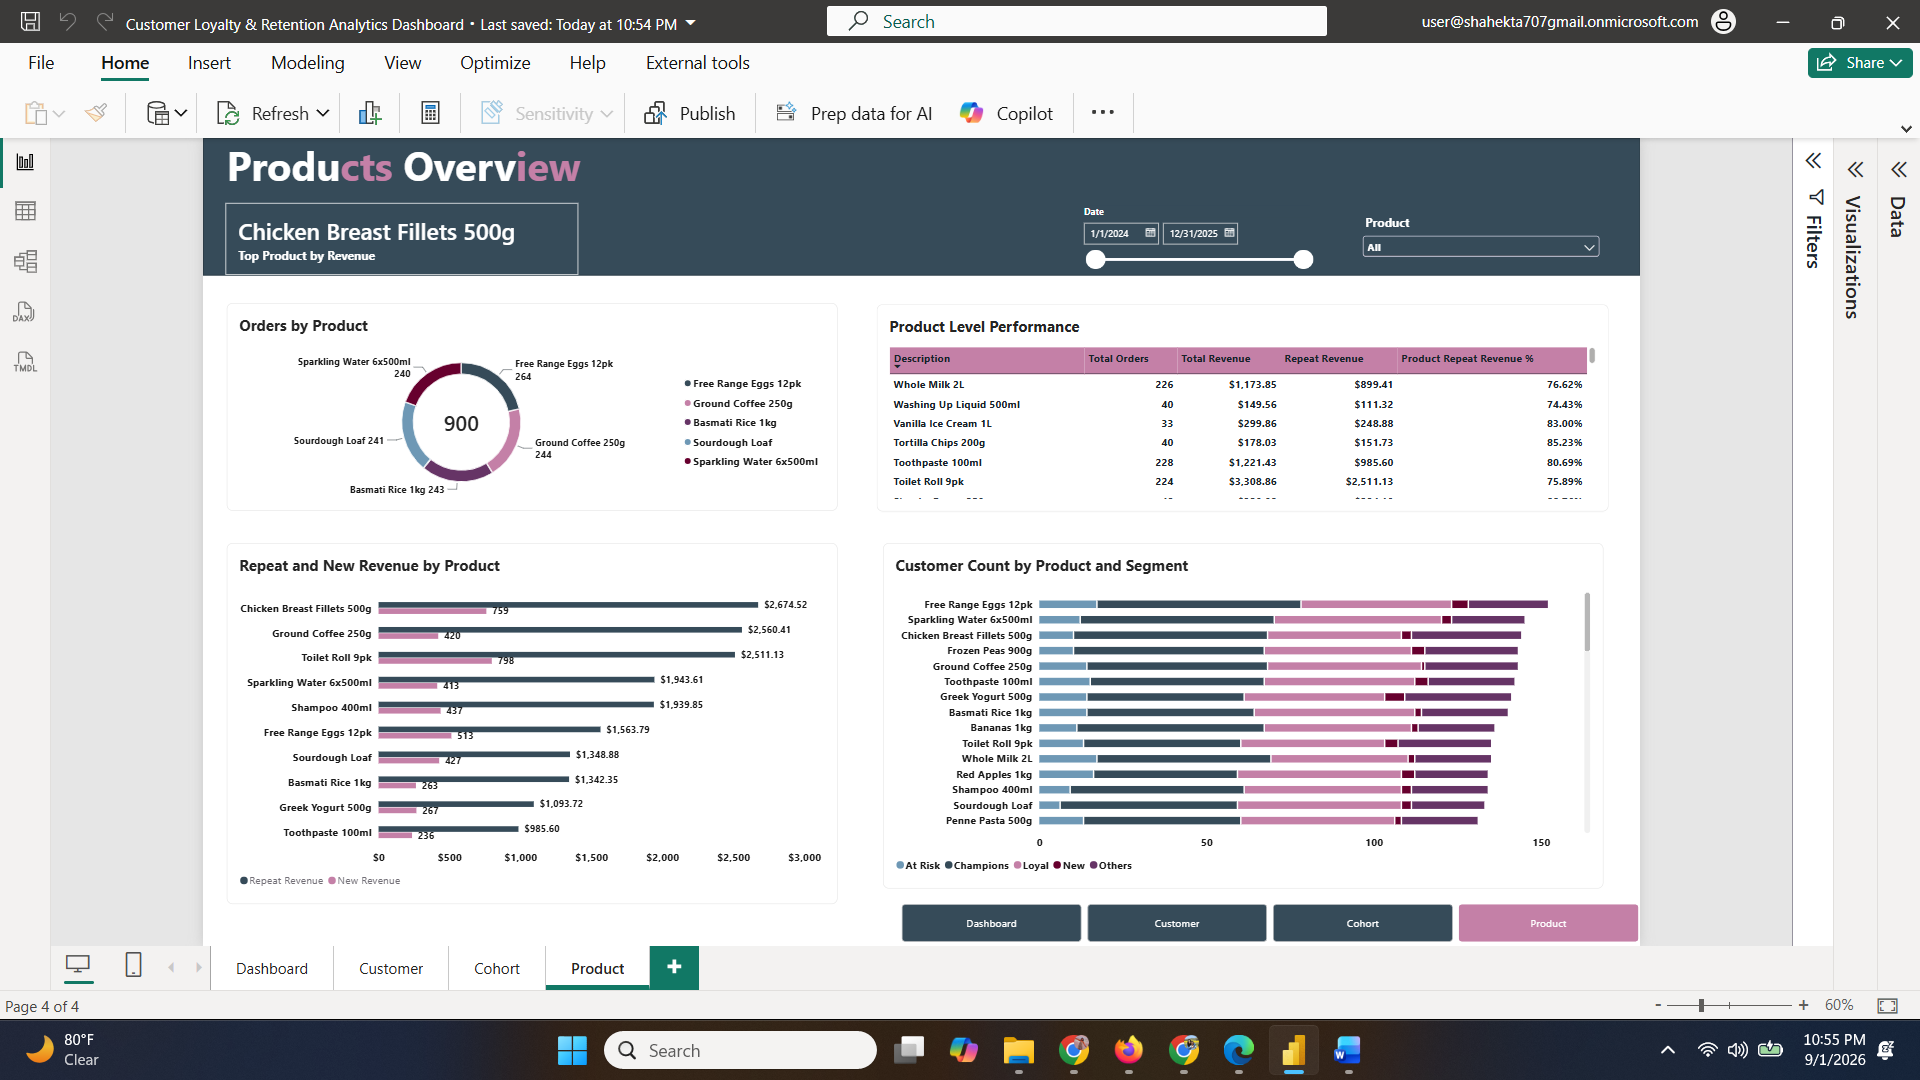

What the dashboard file says about the page in this screenshot:
{"tool":"powerbi","page":{"name":"Product","canvas":[1920,1080],"ordinal":3},"visuals":[{"type":"shape","box":[0,0,1920,183.7],"z":0},{"type":"textbox","box":[31.3,0,571.8,150.3],"z":500},{"type":"clusteredBarChart","title":"Repeat and New Revenue by Product","fields":{"Category":["Fact_OnlineSales.Description"],"Y":["_Measures.Repeat Revenue","_Measures.New Revenue"]},"box":[31.3,540.5,816,482.1],"z":1000},{"type":"tableEx","title":"Product Level Performance","fields":{"Values":["Fact_OnlineSales.Description","_Measures.Total Orders","_Measures.Total Revenue","_Measures.Repeat Revenue","Bridge Category.Product Repeat Revenue %"]},"box":[900.5,221.3,977.5,277.1],"z":2000},{"type":"donutChart","title":"Orders by Product","fields":{"Category":["Fact_OnlineSales.Description"],"Y":["_Measures.Total Orders"]},"box":[31.3,221.2,816,277.6],"z":3000},{"type":"barChart","title":"Customer Count by Product and Segment","fields":{"Category":["Fact_OnlineSales.Description"],"Series":["Dim_RFM.Segment"],"Y":["Count(Fact_OnlineSales.Customer ID)"]},"box":[907.8,540.5,962.1,461.2],"z":4000},{"type":"cardVisual","fields":{"Data":["_Measures.Top Product by Revenue"]},"box":[30.8,86.6,471.7,96],"z":5000},{"type":"pageNavigator","box":[933,1023,987,50.4],"z":6000},{"type":"slicer","fields":{"Values":["Dim_Date.Date"]},"box":[1168.7,89.7,317.2,96],"z":6001},{"type":"slicer","fields":{"Values":["Fact_OnlineSales.Description"]},"box":[1544.3,102.3,325.6,71],"z":6002}]}

Visuals, with their boxes on the page's 1920x1080 design canvas (x1, y1, x2, y2). These are canvas units, not pixel positions in the 1920x1080 screenshot, which may show the page scaled, cropped or inside an application window:
shape: locate(0, 0, 1920, 184)
textbox: locate(31, 0, 603, 150)
"Repeat and New Revenue by Product" clusteredBarChart: locate(31, 540, 847, 1023)
"Product Level Performance" tableEx: locate(900, 221, 1878, 498)
"Orders by Product" donutChart: locate(31, 221, 847, 499)
"Customer Count by Product and Segment" barChart: locate(908, 540, 1870, 1002)
cardVisual - _Measures.Top Product by Revenue: locate(31, 87, 502, 183)
pageNavigator: locate(933, 1023, 1920, 1073)
slicer - Dim_Date.Date: locate(1169, 90, 1486, 186)
slicer - Fact_OnlineSales.Description: locate(1544, 102, 1870, 173)
